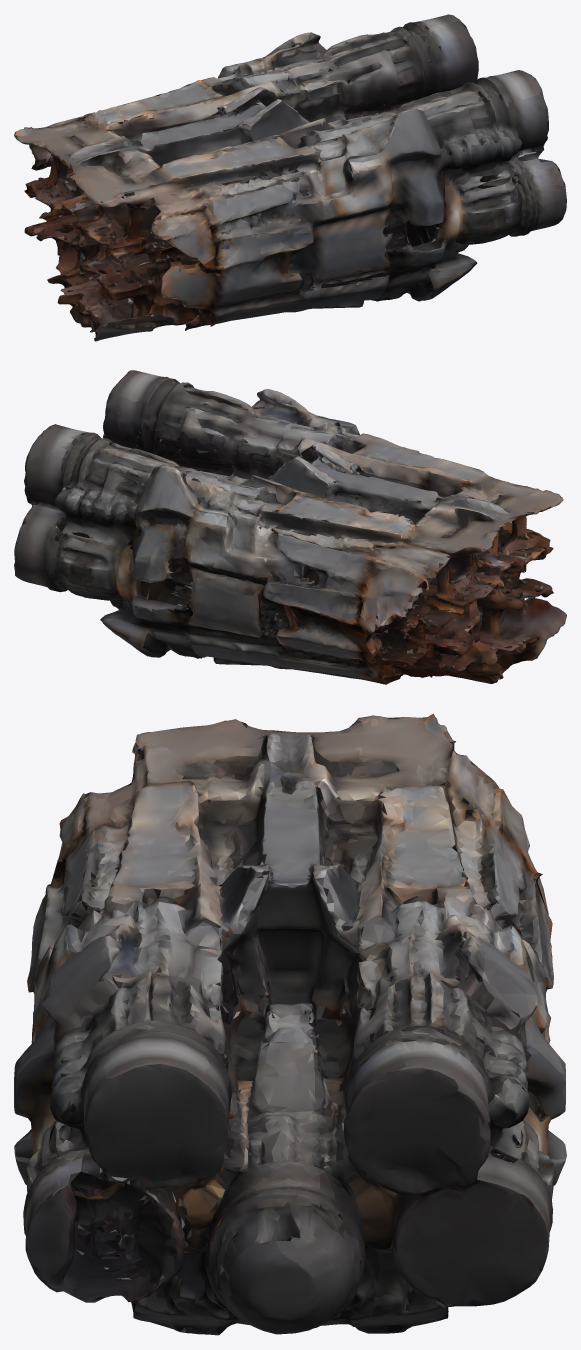
File: spaceship (3).glb
3 views of the same model, one above another, from view 1: azimuth 30°, elevation 25°; view 2: azimuth 150°, elevation 25°; view 3: azimuth 270°, elevation 25° (orthographic). The views are drawn at different scales.
Visible parts, largest first — view 1: input; view 2: input; view 3: input.
Part boxes in pixels (left/top/right/bottom): input: left=14, top=14, right=566, bottom=341; input: left=14, top=370, right=566, bottom=684; input: left=14, top=713, right=566, bottom=1335.
Size of the model in its own units: 1.2 by 0.5152 by 0.7014.
1 material, 1 textured.
